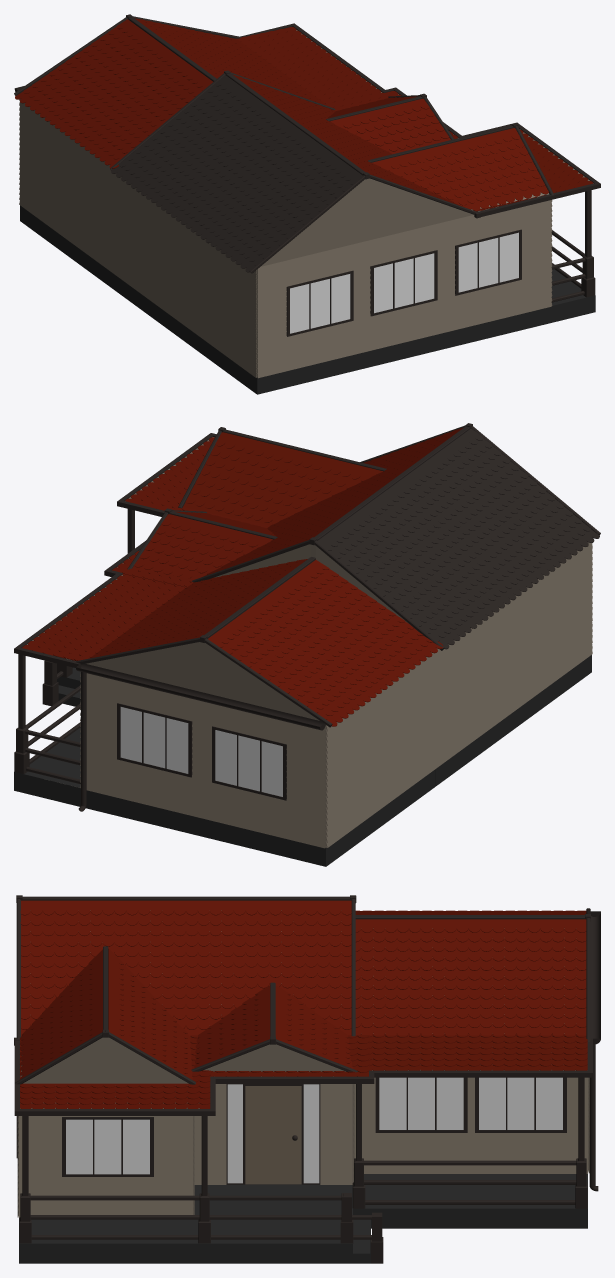
File: Family House (1).fbx
The picture shows the model from 3 angles, top to bottom: view 1: azimuth 30°, elevation 25°; view 2: azimuth 150°, elevation 25°; view 3: azimuth 270°, elevation 25°; orthographic projection. The views are drawn at different scales.
Visible parts, largest first — view 1: Cube.020, Cube.007, Cube.005, Cube.033, Cube.027, Cube.034, Cube.028, Cube.026, Cube.019, Cube.031, Cube.022, Cube.023 (+9 smaller); view 2: Cube.020, Cube.007, Cube.033, Cube.006, Cube.027, Cube.032, Cube.026, Cube.028, Cube.030, Cube.019, Cube.025, Cube.024 (+15 smaller); view 3: Cube.033, Cube.019, Cube.026, Cube.002, Cube.001, Cube.028, Cube.014, Cube.015, Cube.032, Cube.036, Cube.034, Cube.074 (+34 smaller).
Part boxes in pixels (left/top/right/bottom): Cube.020: left=111, top=75, right=362, bottom=272; Cube.007: left=19, top=99, right=256, bottom=377; Cube.005: left=257, top=200, right=551, bottom=378; Cube.033: left=20, top=30, right=595, bottom=394; Cube.027: left=15, top=19, right=212, bottom=168; Cube.034: left=372, top=128, right=548, bottom=210; Cube.028: left=236, top=27, right=382, bottom=104; Cube.026: left=135, top=18, right=326, bottom=105; Cube.019: left=233, top=75, right=464, bottom=207; Cube.031: left=330, top=98, right=450, bottom=154; Cube.022: left=370, top=250, right=437, bottom=316; Cube.023: left=286, top=270, right=353, bottom=336; Cube.020: left=317, top=428, right=599, bottom=649; Cube.007: left=326, top=542, right=592, bottom=847; Cube.033: left=14, top=437, right=591, bottom=866; Cube.006: left=86, top=673, right=325, bottom=848; Cube.027: left=208, top=560, right=443, bottom=726; Cube.032: left=183, top=432, right=382, bottom=525; Cube.026: left=90, top=559, right=307, bottom=658; Cube.028: left=22, top=573, right=186, bottom=660; Cube.030: left=132, top=514, right=272, bottom=579; Cube.019: left=203, top=428, right=462, bottom=576; Cube.025: left=117, top=703, right=192, bottom=777; Cube.024: left=212, top=726, right=286, bottom=800; Cube.033: left=19, top=910, right=587, bottom=1263; Cube.019: left=20, top=900, right=351, bottom=1036; Cube.026: left=355, top=919, right=586, bottom=1036; Cube.002: left=19, top=1116, right=192, bottom=1217; Cube.001: left=354, top=1077, right=587, bottom=1173; Cube.028: left=368, top=1035, right=587, bottom=1071; Cube.014: left=245, top=1086, right=301, bottom=1184; Cube.015: left=62, top=1117, right=153, bottom=1176; Cube.032: left=108, top=948, right=192, bottom=1079; Cube.036: left=20, top=1040, right=210, bottom=1108; Cube.034: left=19, top=949, right=102, bottom=1079; Cube.074: left=14, top=1038, right=592, bottom=1115.
Bounding box in the file's own units: 853 × 452 × 1032.
